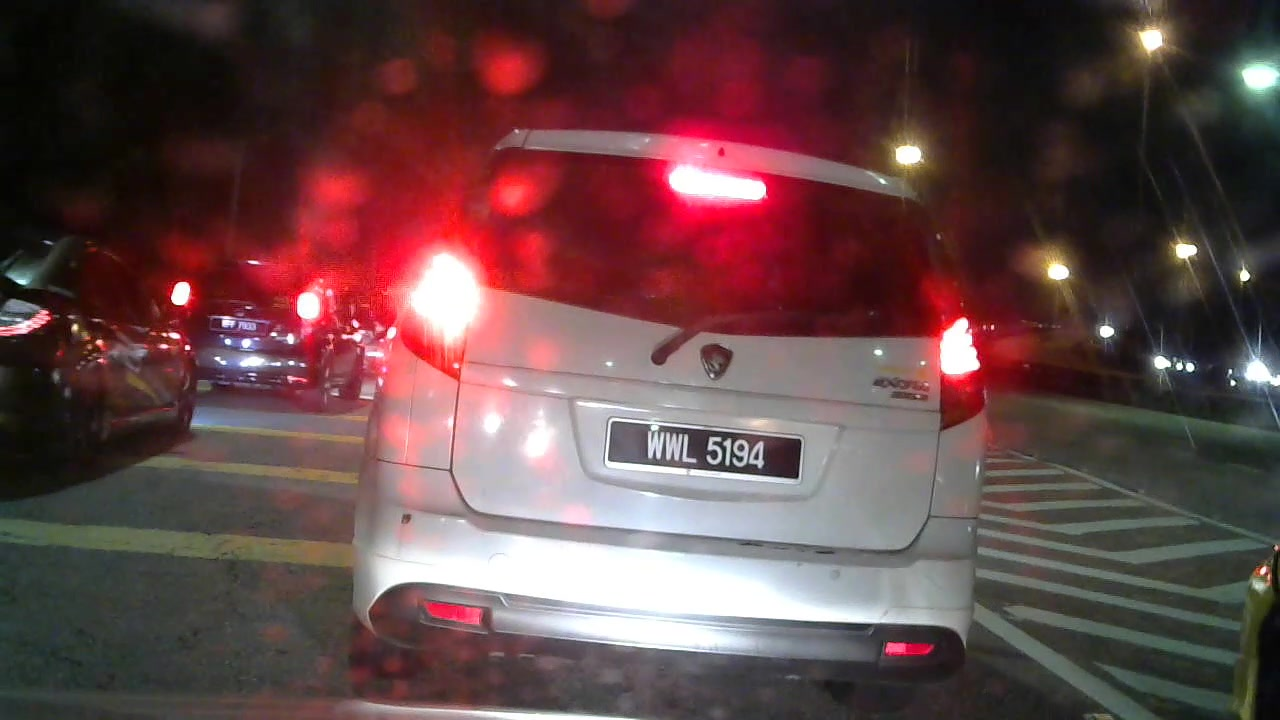Car: (407, 113, 994, 684), (1, 229, 199, 453), (179, 245, 369, 410)
